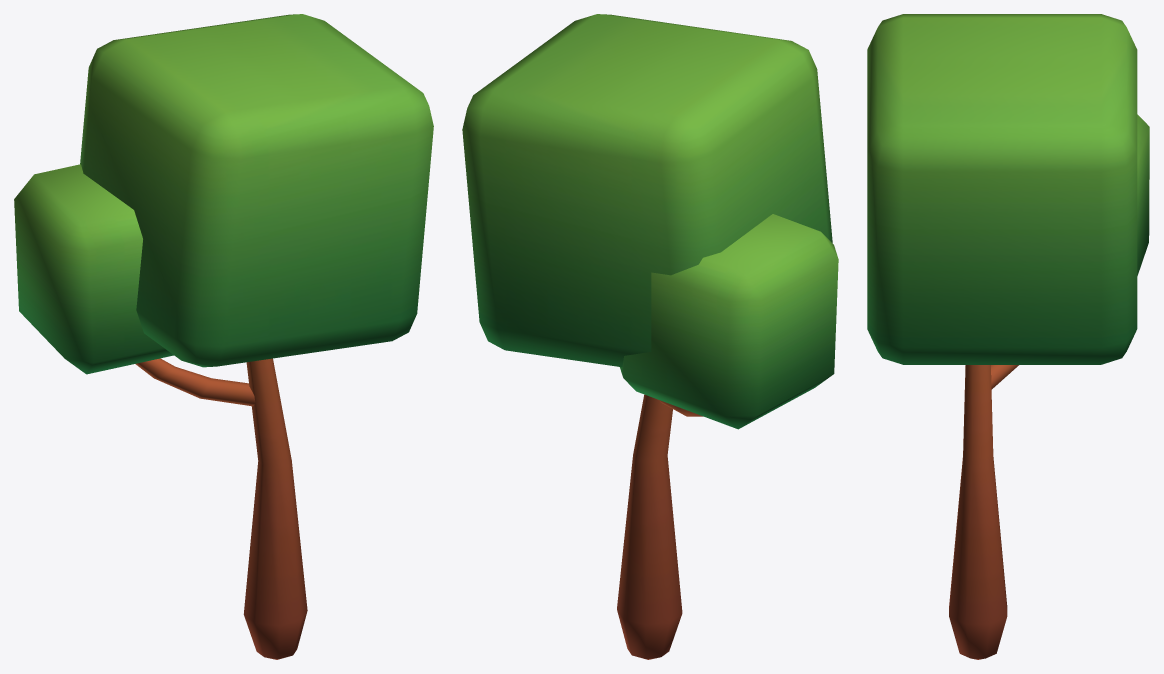
Rendered from Tree_2_A_Color1.glb.
3 views of the same model, side by side, from view 1: azimuth 30°, elevation 25°; view 2: azimuth 150°, elevation 25°; view 3: azimuth 270°, elevation 25° (orthographic). The views are drawn at different scales.
Parts seen in each view (by area): view 1: Tree_2_A_Color1; view 2: Tree_2_A_Color1; view 3: Tree_2_A_Color1.
Part boxes in pixels (x1,y1,x2,y2): Tree_2_A_Color1: [14, 14, 433, 659]; Tree_2_A_Color1: [462, 14, 838, 659]; Tree_2_A_Color1: [867, 14, 1149, 659].
Bounding box in the file's own units: 2.6 × 4.67 × 2.
Materials: 1 (1 with a texture image).
